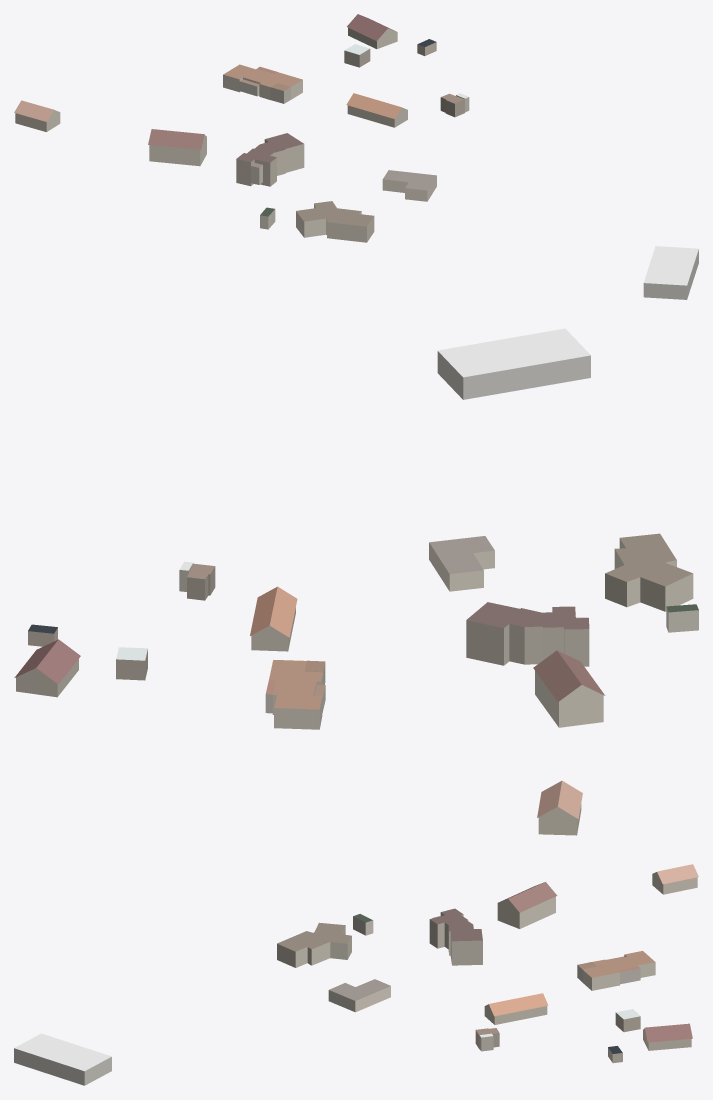
3 renders of one model, top to bottom at view 1: azimuth 30°, elevation 25°; view 2: azimuth 150°, elevation 25°; view 3: azimuth 270°, elevation 25°, orthographic. The views are drawn at different scales.
Visible parts, largest first — view 1: tuile; view 2: tuile; view 3: tuile.
Boxes of the visible parts, left/top/right/bottom form: tuile: left=14, top=14, right=698, bottom=299; tuile: left=14, top=328, right=698, bottom=835; tuile: left=14, top=864, right=698, bottom=1085.
Bounding box in the file's own units: 154 × 17.27 × 233.
